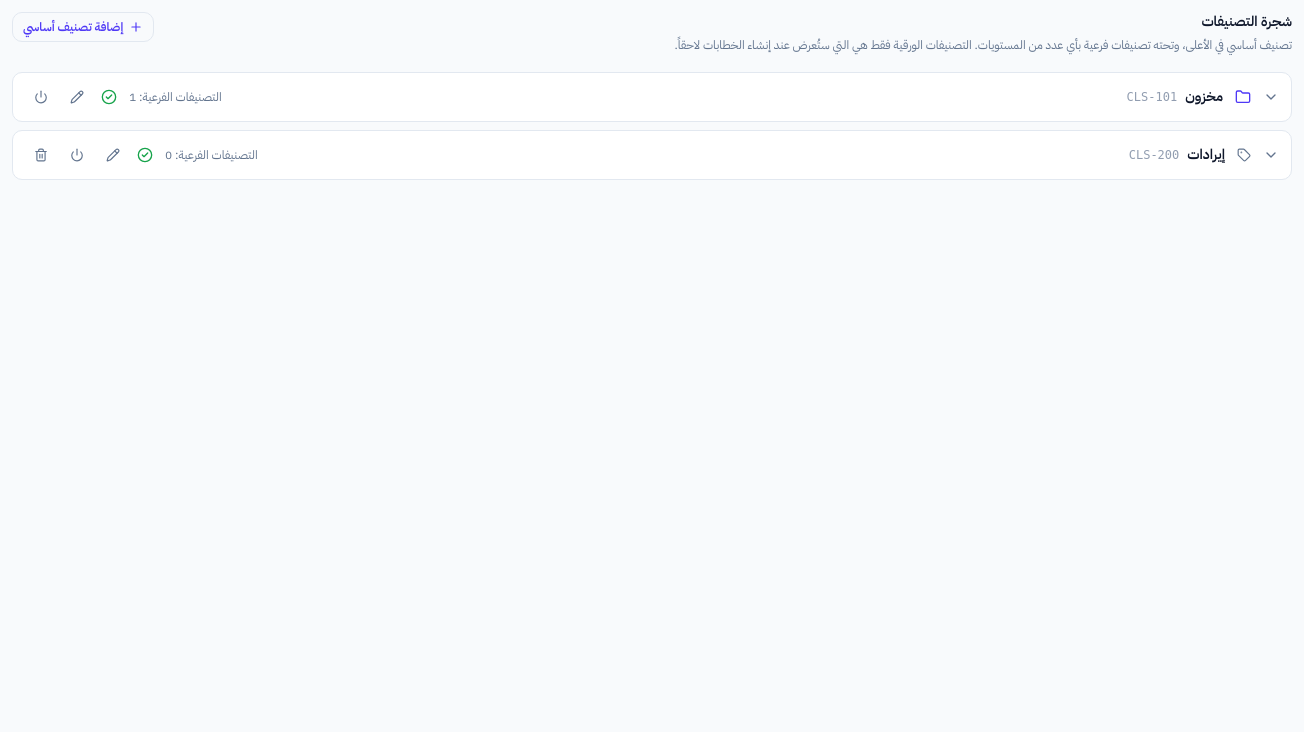
Test: Classifications — unbounded depth › renders a six-level branch and indents every level by the same step
Click the button "مخزون CLS-101 التصنيفات الفرعية: 1". click: coordinates (1204, 96)
box: [101, 86, 1279, 106]
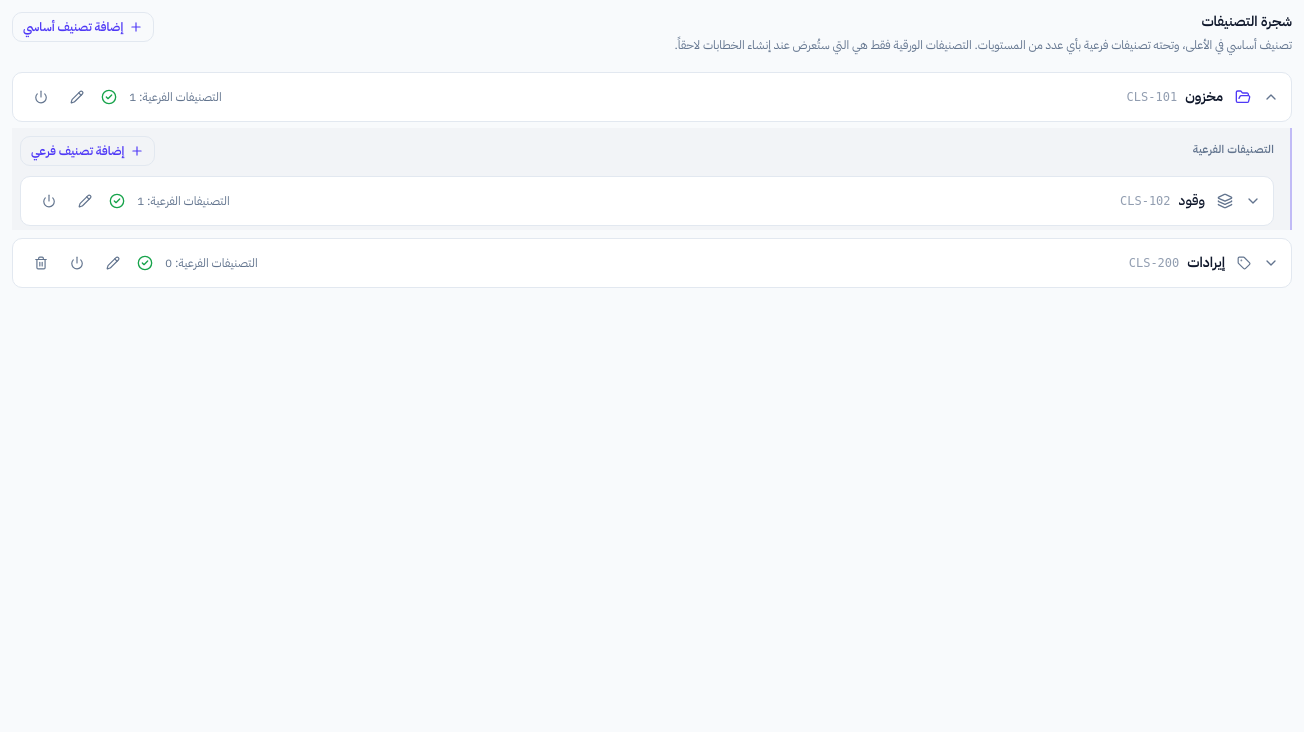
Click the button "وقود CLS-102 التصنيفات الفرعية: 1". click: coordinates (1145, 200)
box: [109, 190, 1261, 210]
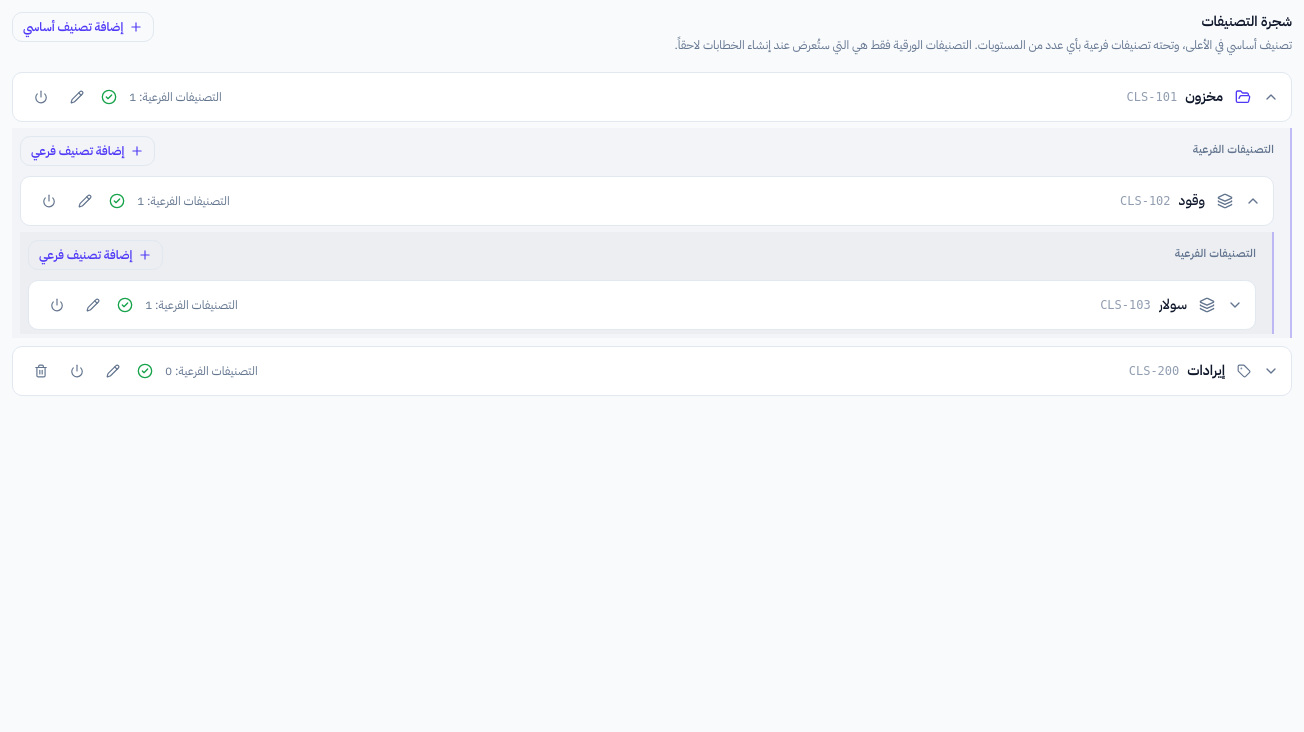
Click the button "سولار CLS-103 التصنيفات الفرعية: 1". click: coordinates (1125, 304)
box: [117, 294, 1243, 314]
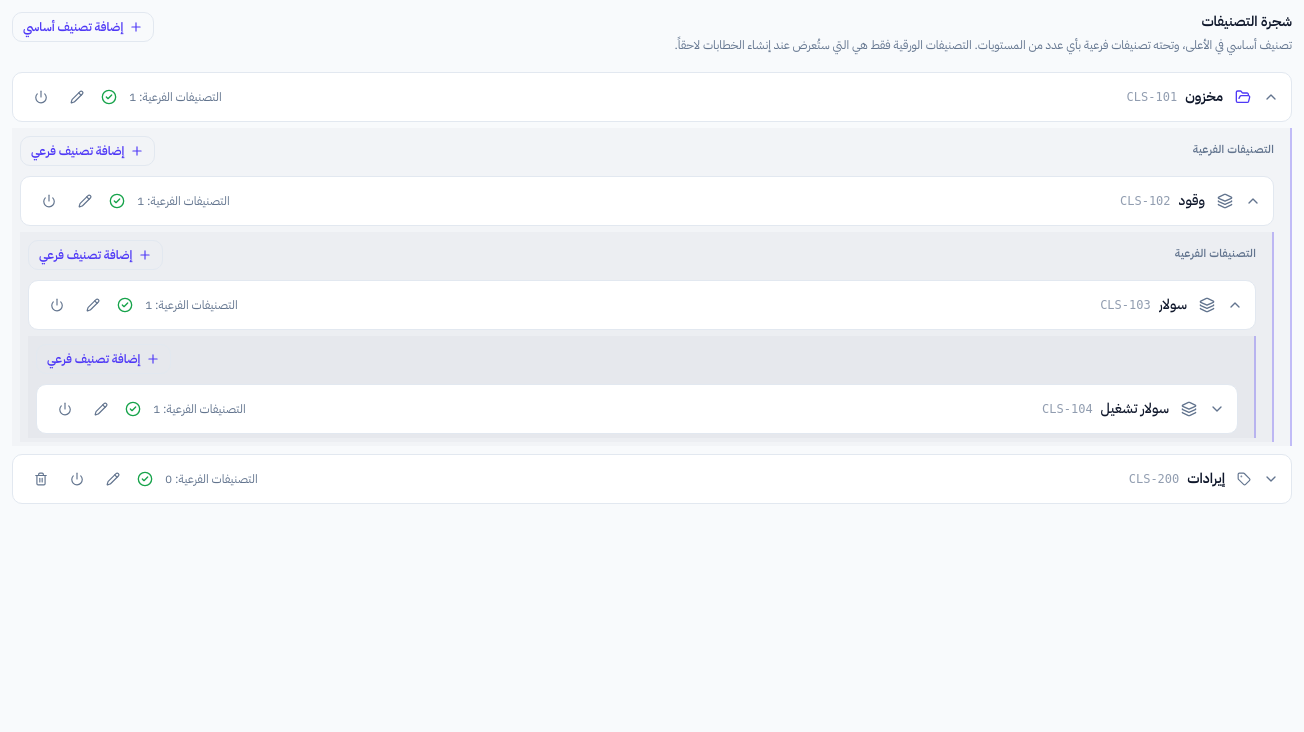
Click the button "سولار تشغيل CLS-104 التصنيفات الفرعية: 1". click: coordinates (1135, 408)
box: [125, 398, 1225, 418]
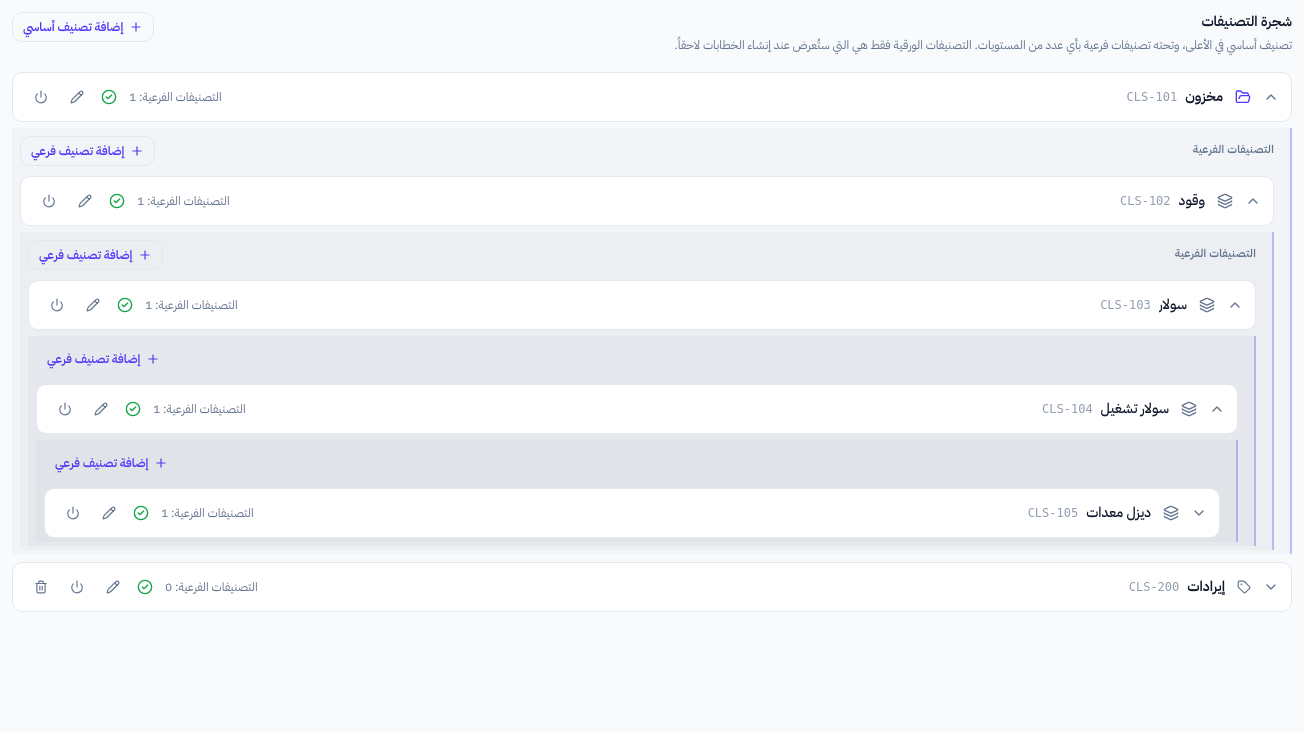
Click the button "ديزل معدات CLS-105 التصنيفات الفرعية: 1". click: coordinates (1119, 512)
box: [133, 502, 1207, 522]
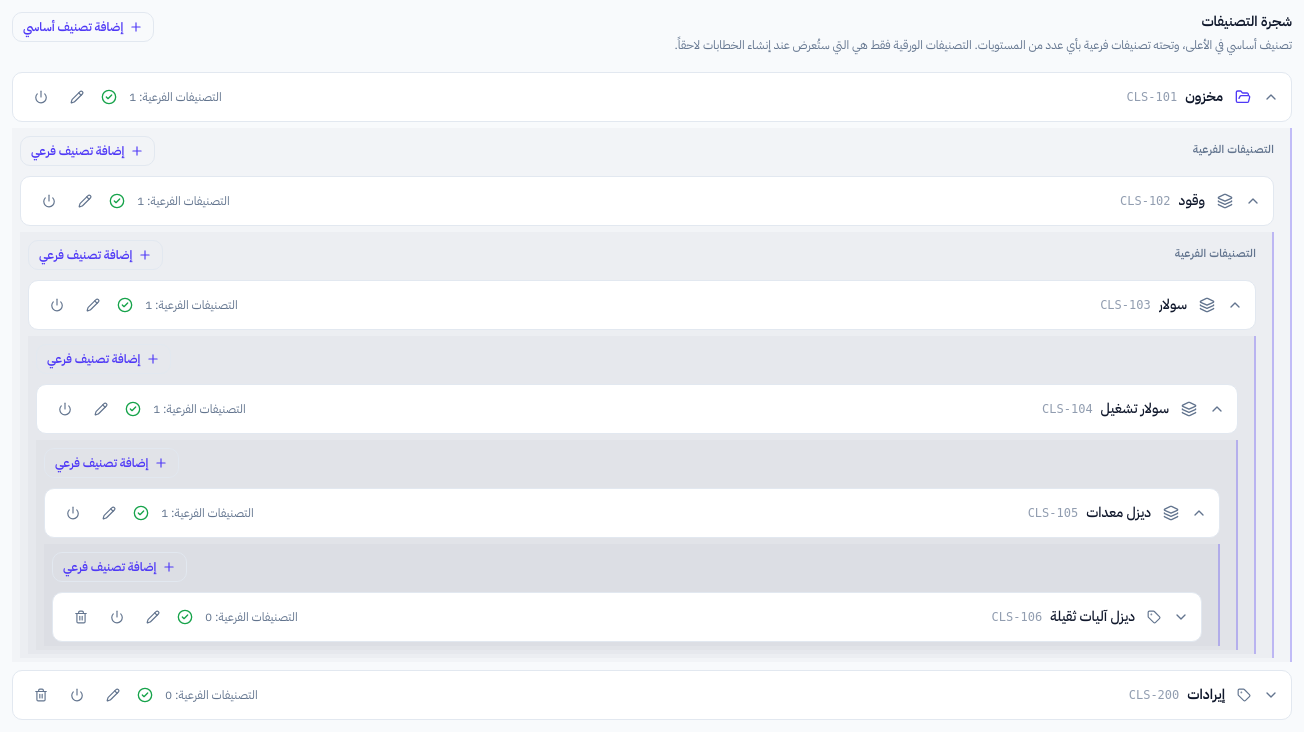
expect the text "ديزل آليات ثقيلة" is shown: met, box [1050, 606, 1135, 626]
expect the text "CLS-106" is shown: met, box [992, 608, 1042, 624]
